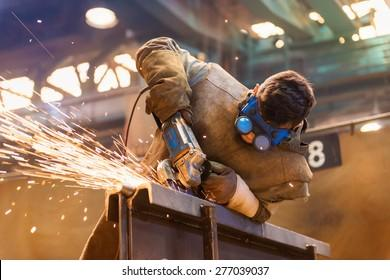gloves: (200, 161, 272, 225), (139, 50, 194, 125)
